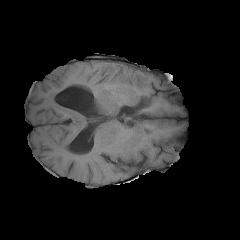glioma: (48, 63, 127, 104)
